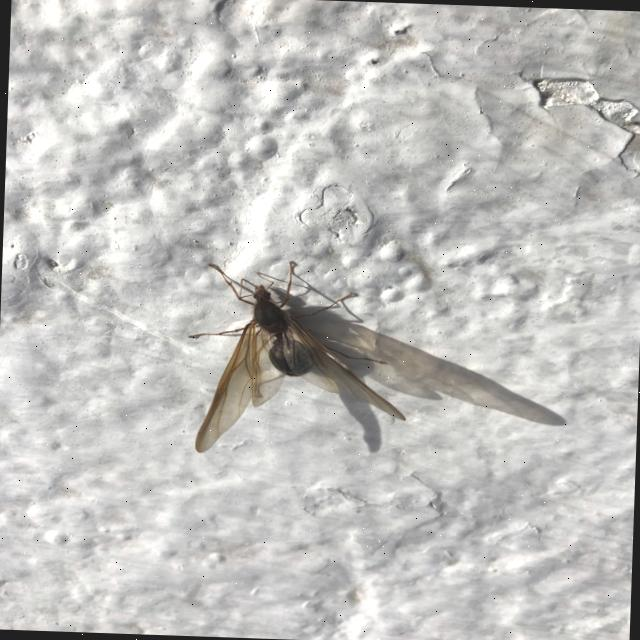Alive-Male-Alate: (182, 256, 410, 459)
